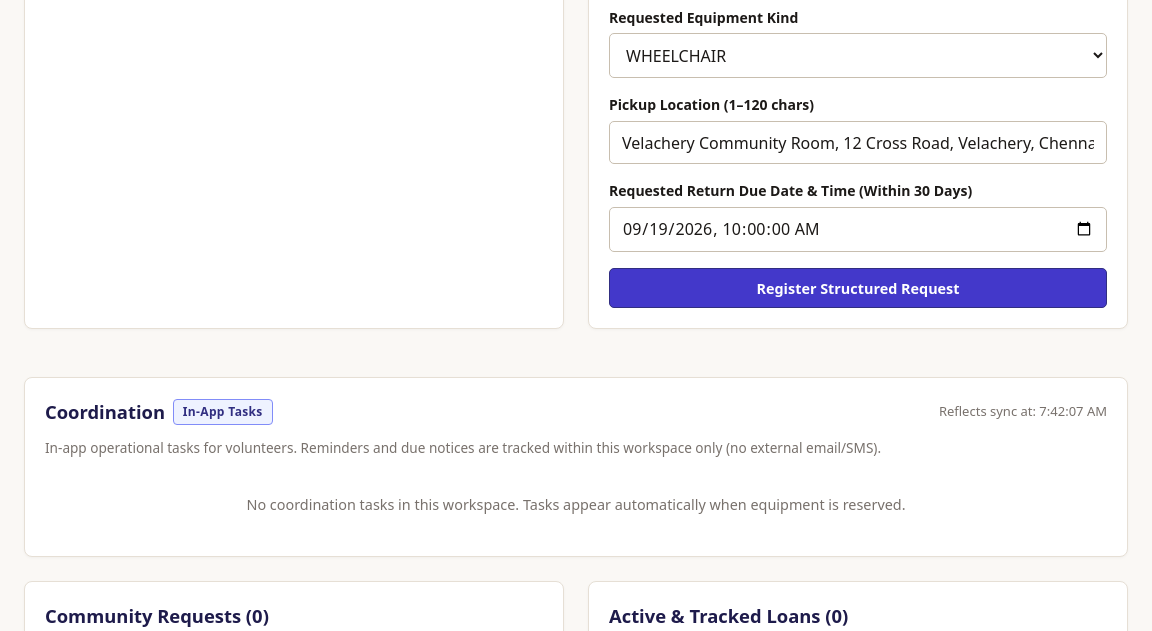
Test case: BS-002-R1 Extended Correction Verification › models response loss after commit: idempotent replay succeeds without duplicate creation
The width and height of the screenshot is (1152, 631).
(page scrolled)
Click the button "Register Structured Request" at (858, 288), box top-left (609, 268), bottom-right (1107, 308)
(page scrolled)
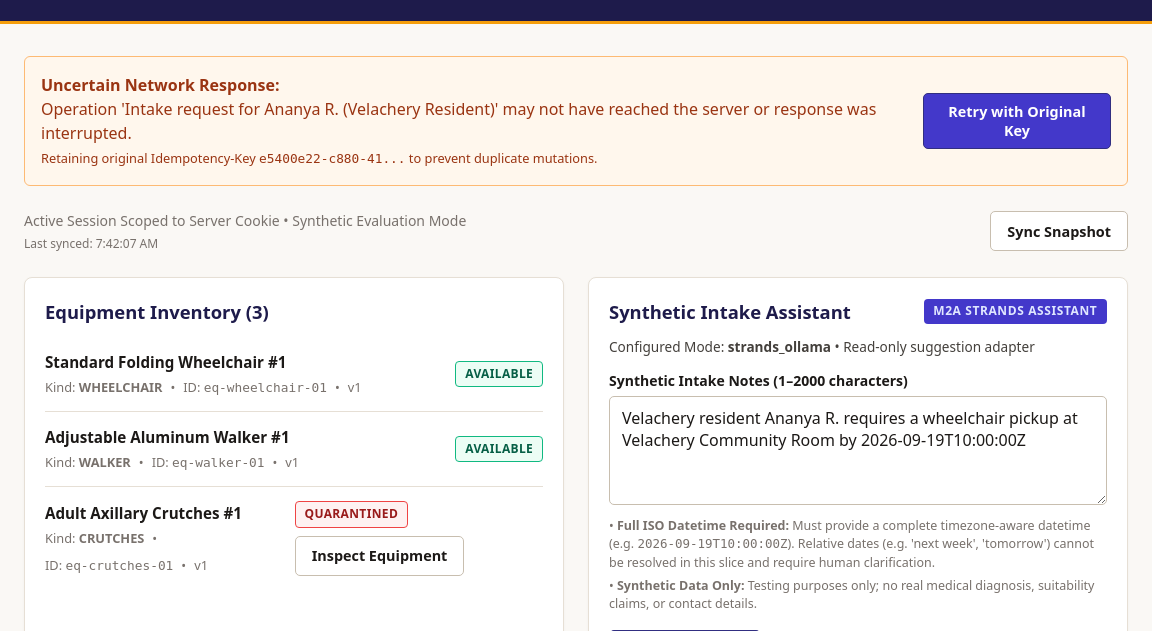
Result: the message shows "Uncertain Network Response" at top-left (41, 74), bottom-right (280, 96)
Click the button "Retry with Original Key" at (1017, 121), box top-left (923, 93), bottom-right (1111, 149)
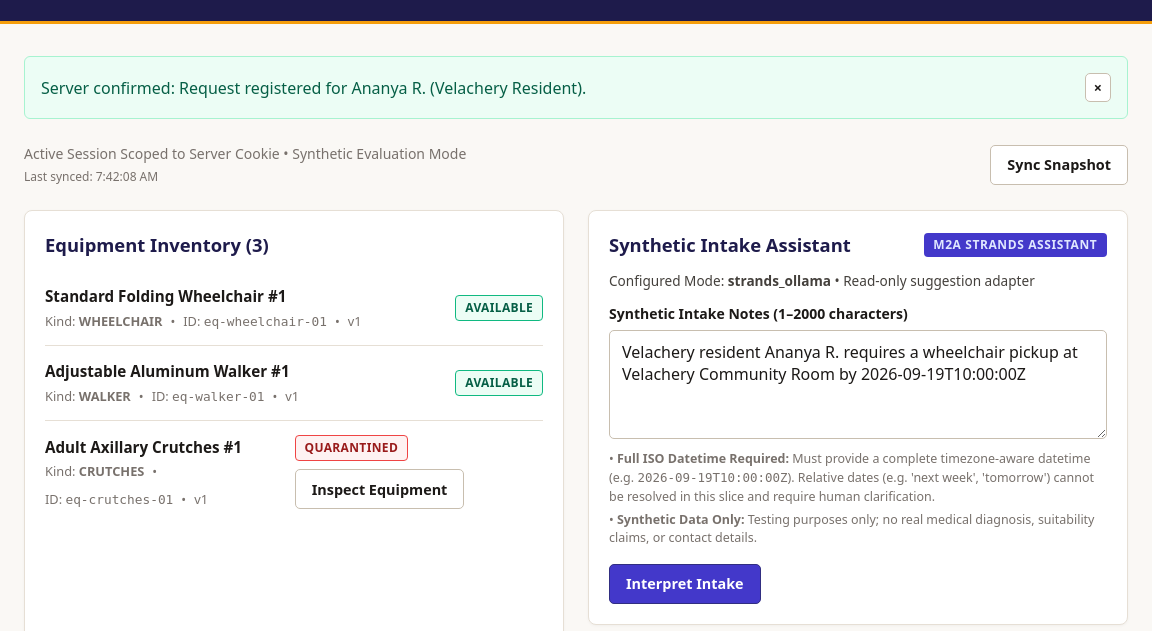
Result: the text "Server confirmed: Request registered" is shown at top-left (41, 77), bottom-right (586, 99)
